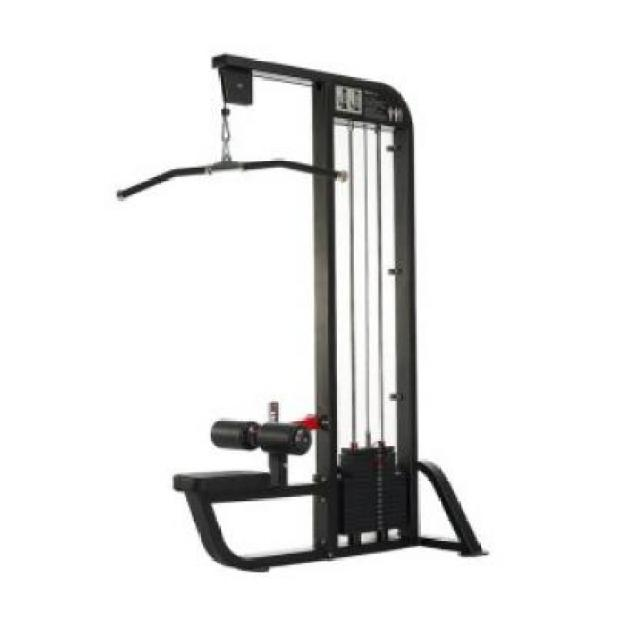Lat Pull Down: (106, 42, 509, 584)
